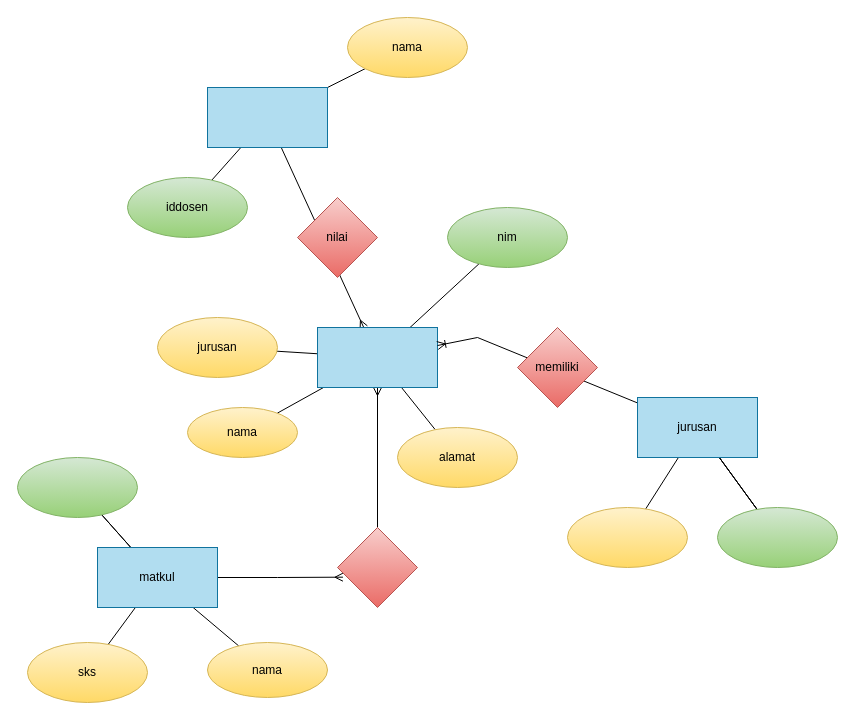
The diagram is 855 pixels wide and 720 high, and some of its shapes have lost their labels. Here are the shapes that lost their labels. From the top down, the box of each, then its label:
(206, 86, 328, 148): dosen
(316, 326, 438, 388): mahasiswa
(16, 456, 138, 518): idmatkul
(566, 506, 688, 568): nama jurusan
(716, 506, 838, 568): idjurusan
(336, 526, 418, 608): mengikhuti
